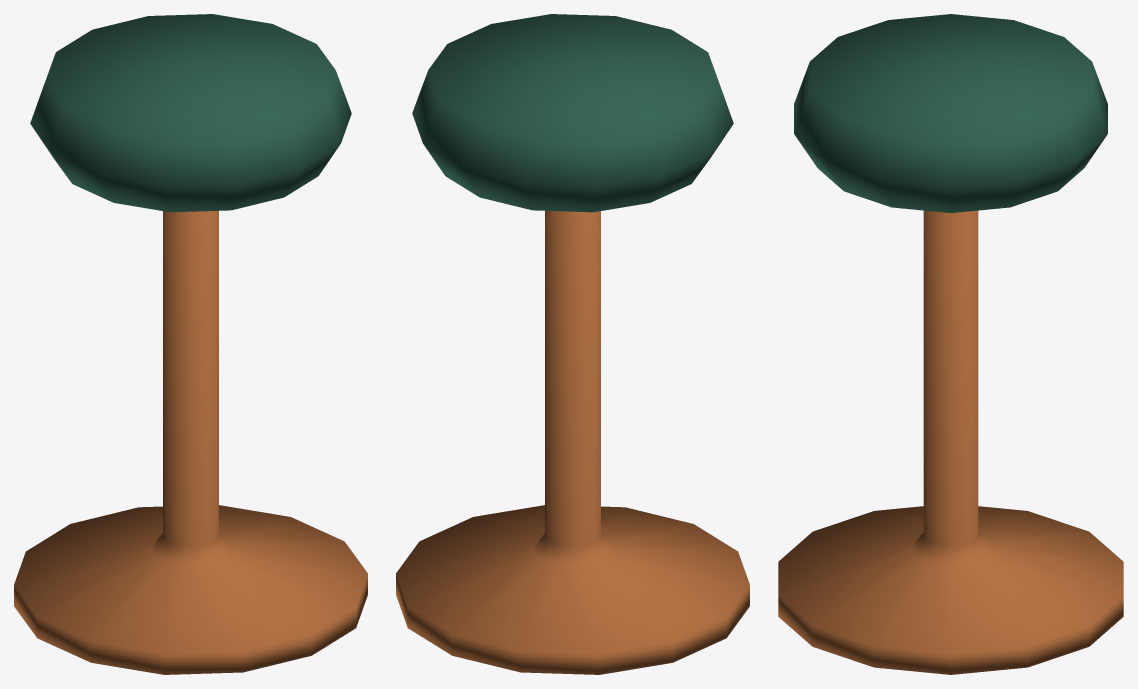
Rendered from slot_stool.glb.
The picture shows the model from 3 angles, left to right: view 1: azimuth 30°, elevation 25°; view 2: azimuth 150°, elevation 25°; view 3: azimuth 270°, elevation 25°; orthographic projection.
Parts seen in each view (by area): view 1: slot_stool metal, slot_stool felt; view 2: slot_stool metal, slot_stool felt; view 3: slot_stool metal, slot_stool felt.
Boxes of the visible parts, x1,y1,x2,y2 form: slot_stool metal: [14, 210, 367, 674]; slot_stool felt: [30, 14, 351, 212]; slot_stool metal: [396, 210, 749, 674]; slot_stool felt: [412, 14, 733, 212]; slot_stool metal: [778, 210, 1123, 674]; slot_stool felt: [794, 14, 1107, 212].
Bounding box in the file's own units: 0.44 × 0.73 × 0.429.
